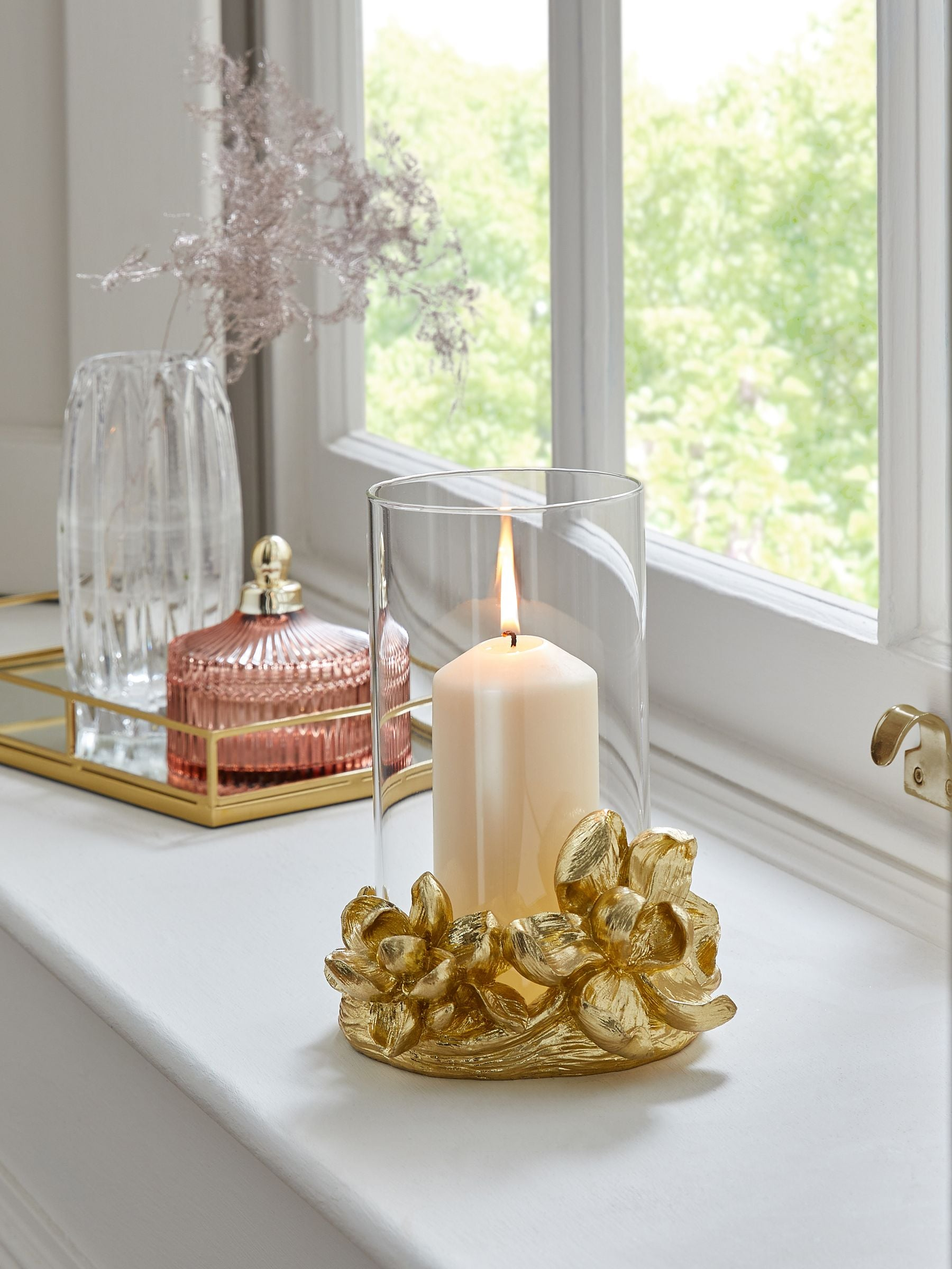Open-Flame-Hazard: (312, 425, 756, 1114)
